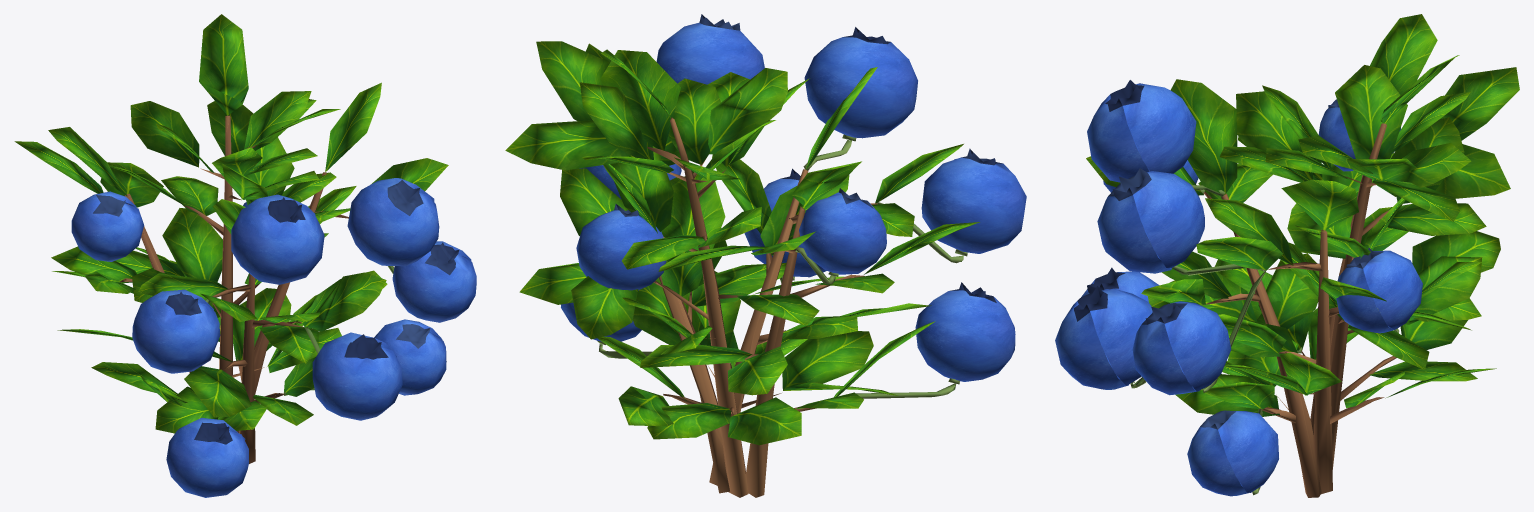
The model's file is NP_Blueberry_Ready_LOD1.fbx.
3 views of the same model, side by side, from view 1: azimuth 30°, elevation 25°; view 2: azimuth 150°, elevation 25°; view 3: azimuth 270°, elevation 25° (orthographic). The views are drawn at different scales.
Visible parts, largest first — view 1: NP_Blueberry_Ready; view 2: NP_Blueberry_Ready; view 3: NP_Blueberry_Ready.
Boxes of the visible parts, x1,y1,x2,y2 form: NP_Blueberry_Ready: (14,14,476,497); NP_Blueberry_Ready: (505,14,1026,497); NP_Blueberry_Ready: (1055,14,1519,497).
Size of the model in its own units: 72.53 by 77.46 by 70.68.
